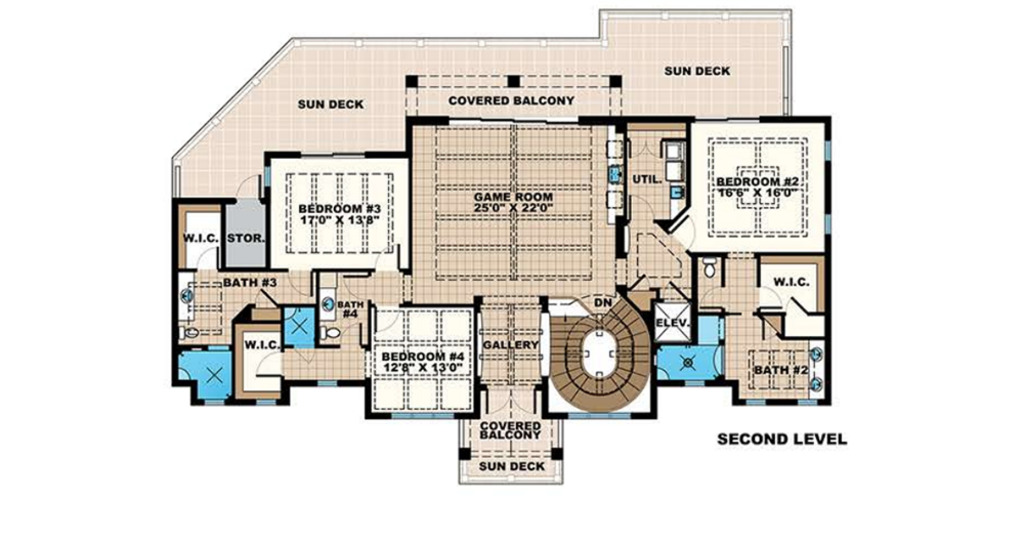door: (237, 174, 262, 208), (673, 216, 699, 248), (255, 350, 282, 380), (340, 273, 367, 301), (288, 268, 313, 297), (755, 287, 782, 310), (196, 246, 221, 269)
large_sink: (318, 323, 340, 340), (701, 258, 718, 278)
small_sink: (318, 288, 335, 320)
stairs: (546, 301, 649, 411)
windows: (387, 410, 455, 423), (567, 413, 633, 421)
